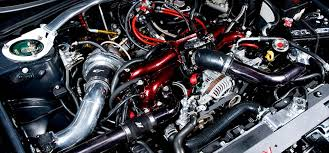radiator_hose: (167, 103, 271, 147), (199, 50, 306, 87)
